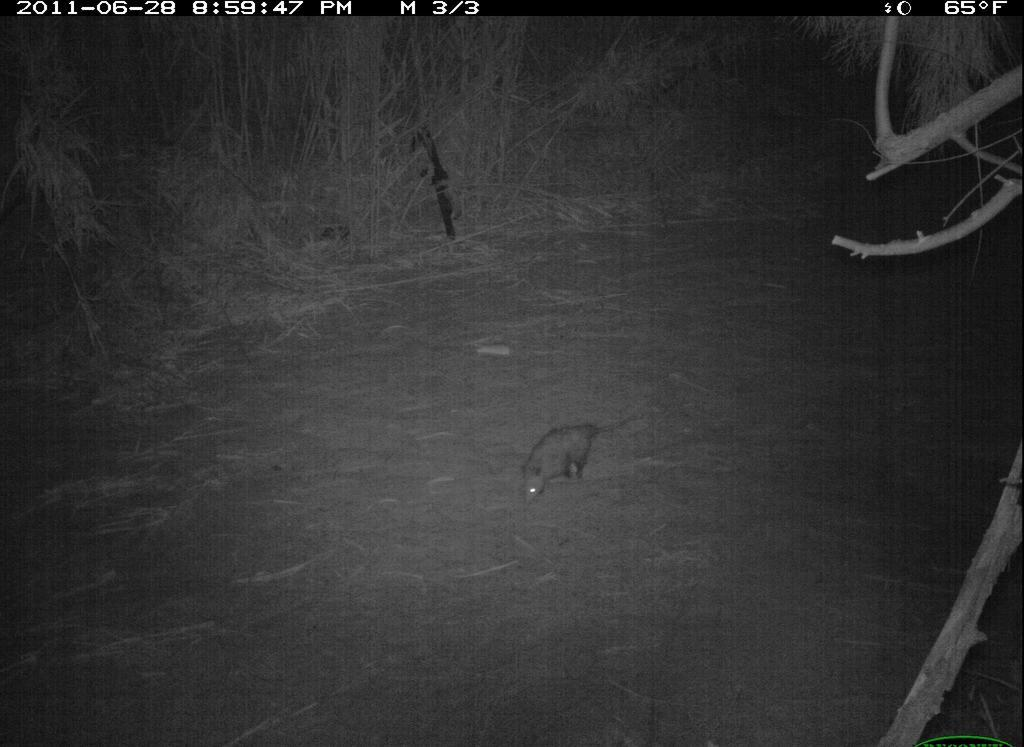opossum: (504, 404, 637, 516)
